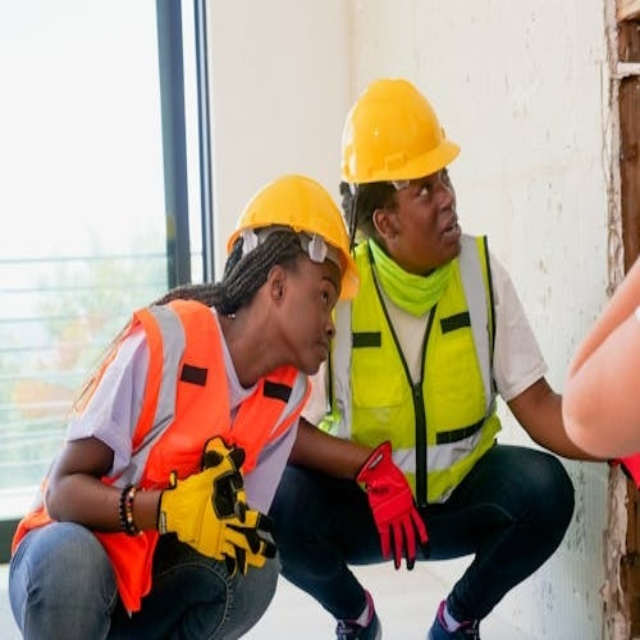Guantes: (160, 435, 279, 582), (351, 439, 431, 577)
Sin_gafas: (398, 166, 452, 205), (307, 268, 342, 312)
Sin_mascara: (422, 212, 465, 258), (302, 328, 333, 375)
